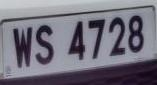2: (106, 14, 128, 58)
4: (65, 16, 88, 68)
7: (85, 15, 107, 63)
8: (125, 11, 148, 58)
S: (33, 19, 58, 73)
W: (12, 21, 33, 75)
